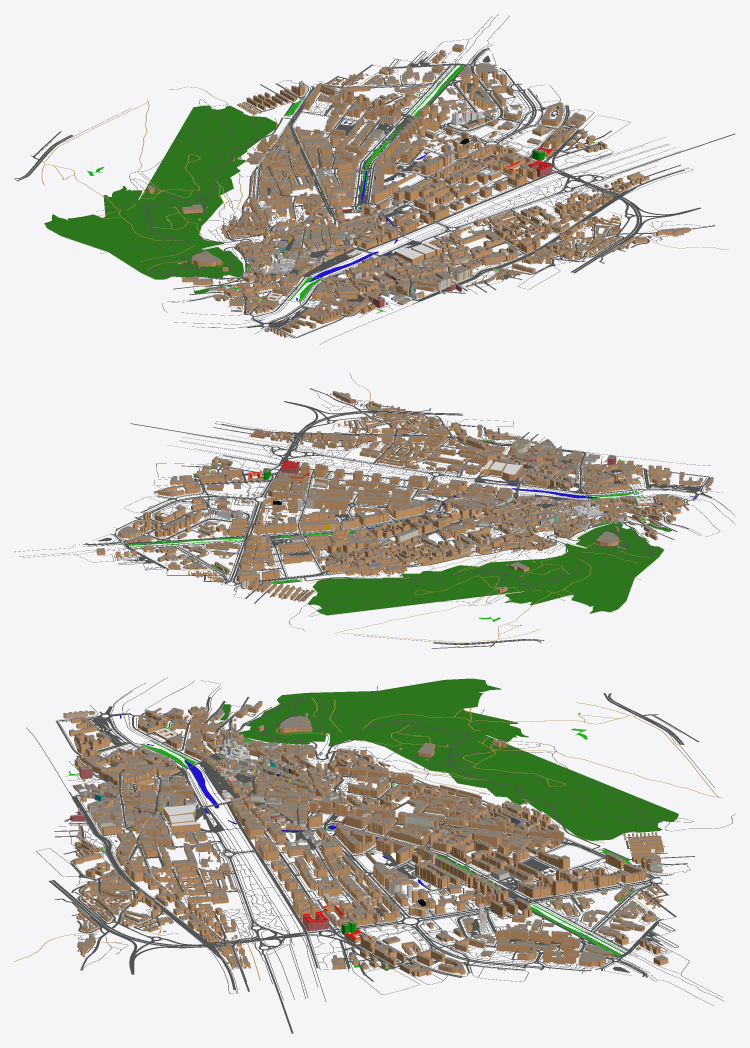
The model's file is BurgosTest1.fbx.
3 renders of one model, top to bottom at view 1: azimuth 30°, elevation 25°; view 2: azimuth 150°, elevation 25°; view 3: azimuth 270°, elevation 25°, orthographic. The views are drawn at different scales.
Parts seen in each view (by area): view 1: map.osm_buildings, map.osm_forest, map.osm_paths_footway, map.osm_roads_residential, map.osm_areas_pedestrian, map.osm_roads_secondary, map.osm_paths_cycleway, map.osm_roads_track, map.osm_roads_service, map.osm_roads_primary, map.osm_roads_motorway, map.osm_vegetation (+3 smaller); view 2: map.osm_buildings, map.osm_forest, map.osm_paths_footway, map.osm_roads_residential, map.osm_areas_pedestrian, map.osm_roads_track, map.osm_paths_cycleway, map.osm_roads_secondary, map.osm_roads_service, map.osm_roads_primary, map.osm_vegetation, map.osm_roads_motorway (+3 smaller); view 3: map.osm_buildings, map.osm_forest, map.osm_paths_footway, map.osm_roads_residential, map.osm_areas_pedestrian, map.osm_roads_secondary, map.osm_roads_track, map.osm_roads_service, map.osm_paths_cycleway, map.osm_roads_primary, map.osm_roads_motorway, map.osm_vegetation (+3 smaller).
Boxes of the visible parts, box(x1,y1,x2,y2) form: map.osm_buildings: box(62, 44, 691, 337); map.osm_forest: box(44, 105, 314, 293); map.osm_paths_footway: box(24, 14, 714, 338); map.osm_roads_residential: box(33, 48, 715, 338); map.osm_areas_pedestrian: box(240, 55, 587, 328); map.osm_roads_secondary: box(14, 68, 684, 301); map.osm_paths_cycleway: box(192, 54, 692, 344); map.osm_roads_track: box(41, 75, 728, 269); map.osm_roads_service: box(31, 51, 683, 304); map.osm_roads_primary: box(288, 83, 692, 301); map.osm_roads_motorway: box(558, 171, 700, 273); map.osm_vegetation: box(87, 65, 595, 315); map.osm_buildings: box(96, 391, 713, 625); map.osm_forest: box(308, 497, 671, 615); map.osm_paths_footway: box(14, 389, 735, 646); map.osm_roads_residential: box(83, 388, 709, 648); map.osm_areas_pedestrian: box(98, 464, 700, 583); map.osm_roads_track: box(142, 373, 649, 642); map.osm_paths_cycleway: box(102, 421, 735, 580); map.osm_roads_secondary: box(115, 423, 585, 644); map.osm_roads_service: box(117, 397, 666, 647); map.osm_roads_primary: box(224, 401, 585, 585); map.osm_vegetation: box(128, 440, 660, 621); map.osm_roads_motorway: box(276, 401, 462, 464); map.osm_buildings: box(63, 700, 668, 976); map.osm_forest: box(184, 678, 678, 840); map.osm_paths_footway: box(36, 677, 735, 1005); map.osm_roads_residential: box(54, 697, 699, 991); map.osm_areas_pedestrian: box(89, 717, 656, 972); map.osm_roads_secondary: box(73, 693, 684, 989); map.osm_roads_track: box(14, 697, 722, 980); map.osm_roads_service: box(69, 707, 678, 970); map.osm_paths_cycleway: box(26, 683, 648, 993); map.osm_roads_primary: box(75, 771, 662, 973); map.osm_roads_motorway: box(48, 880, 303, 974); map.osm_vegetation: box(68, 721, 654, 969).
Bounding box in the file's own units: 38073 × 944 × 32595.
